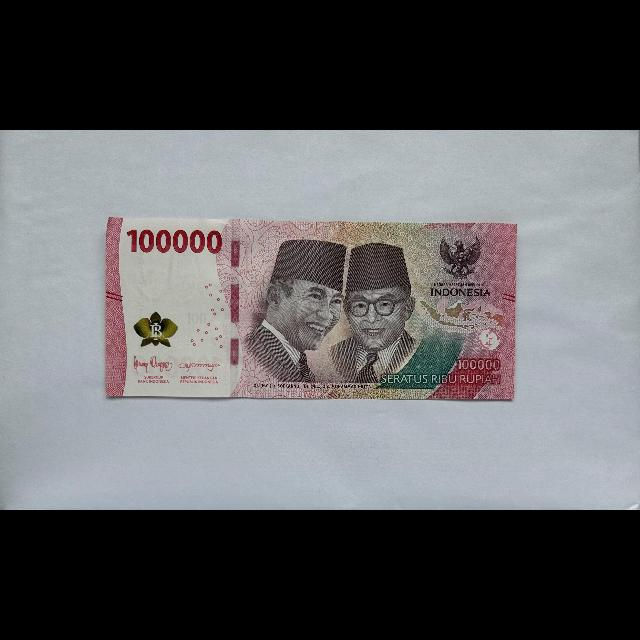Asli-100k: (104, 215, 518, 403)
Tinta-Asli-100k: (132, 310, 178, 349)
